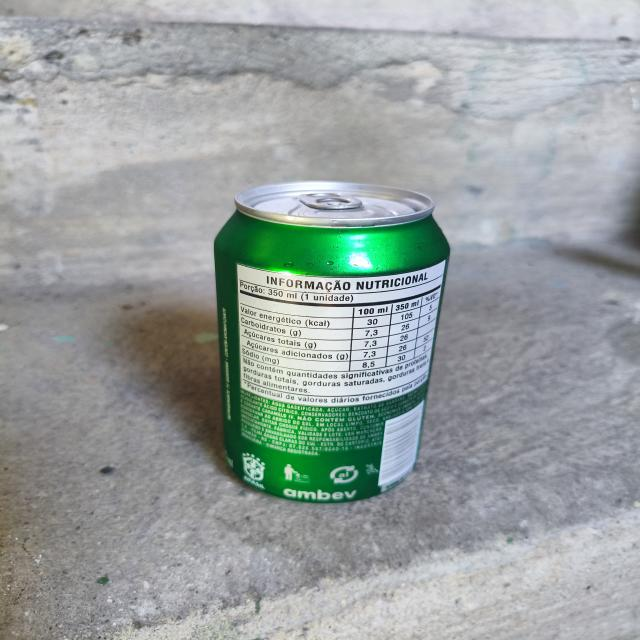Guarana: (200, 171, 464, 505)
